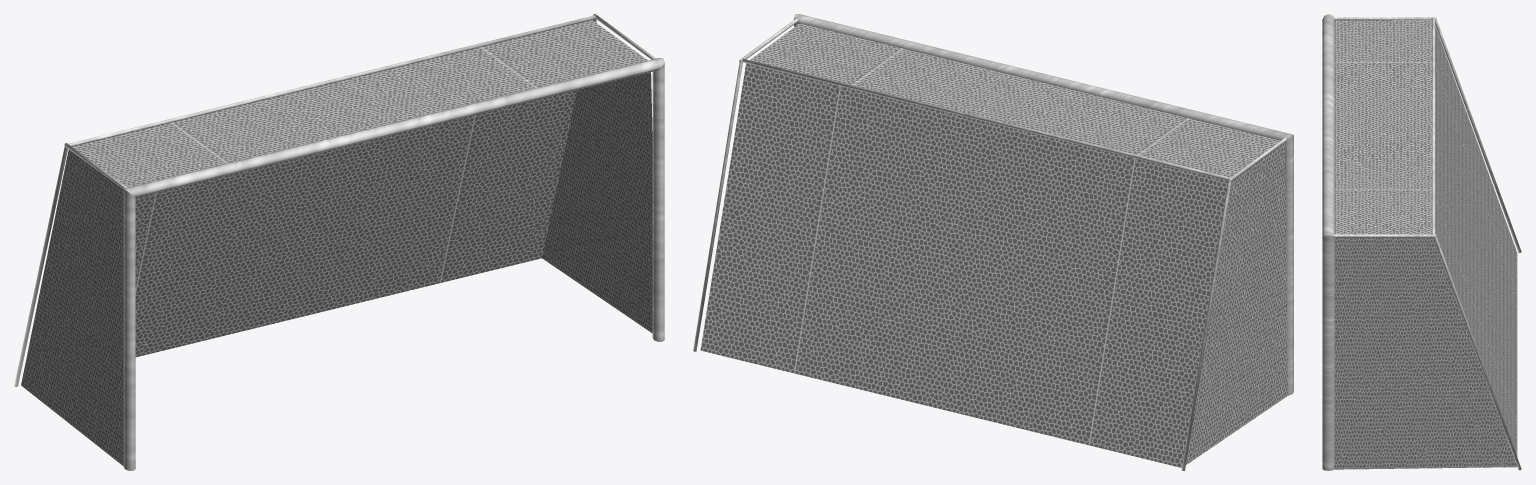
File: soccerGoal.obj
3 views of the same model, side by side, from view 1: azimuth 30°, elevation 25°; view 2: azimuth 150°, elevation 25°; view 3: azimuth 270°, elevation 25° (orthographic). The views are drawn at different scales.
Size of the model in its own units: 4.07 by 2.03 by 1.55.
Materials: 1 (1 with a texture image).
